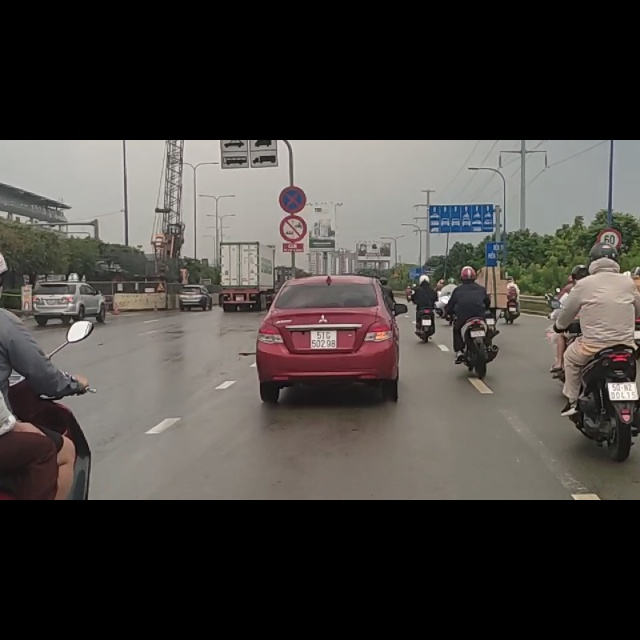bien_chi_dan: (595, 152, 627, 204), (279, 82, 306, 129)
